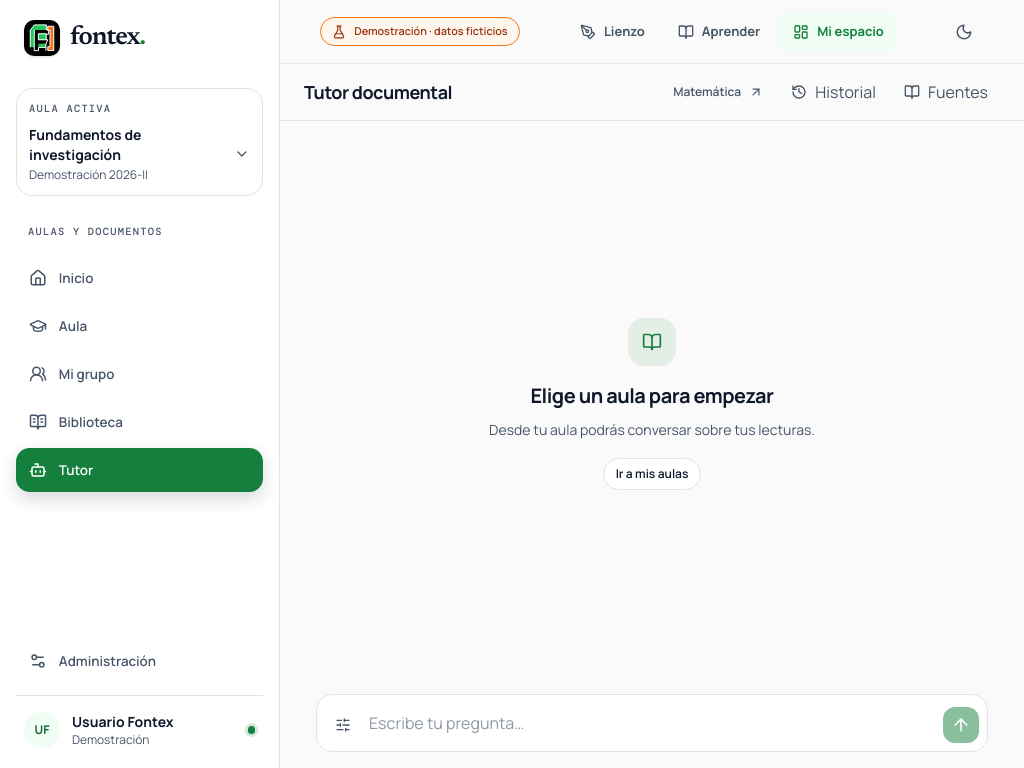
it: Fontex shell › abre las opciones y las fuentes del tutor solo al pedirlas
Expected: the heading "Tutor documental" is shown, [304, 78, 452, 106]
Expected: the heading "Elige un aula para empezar" is shown, [530, 382, 774, 410]
Click the button "Fuentes": (946, 92) [892, 76, 1000, 108]
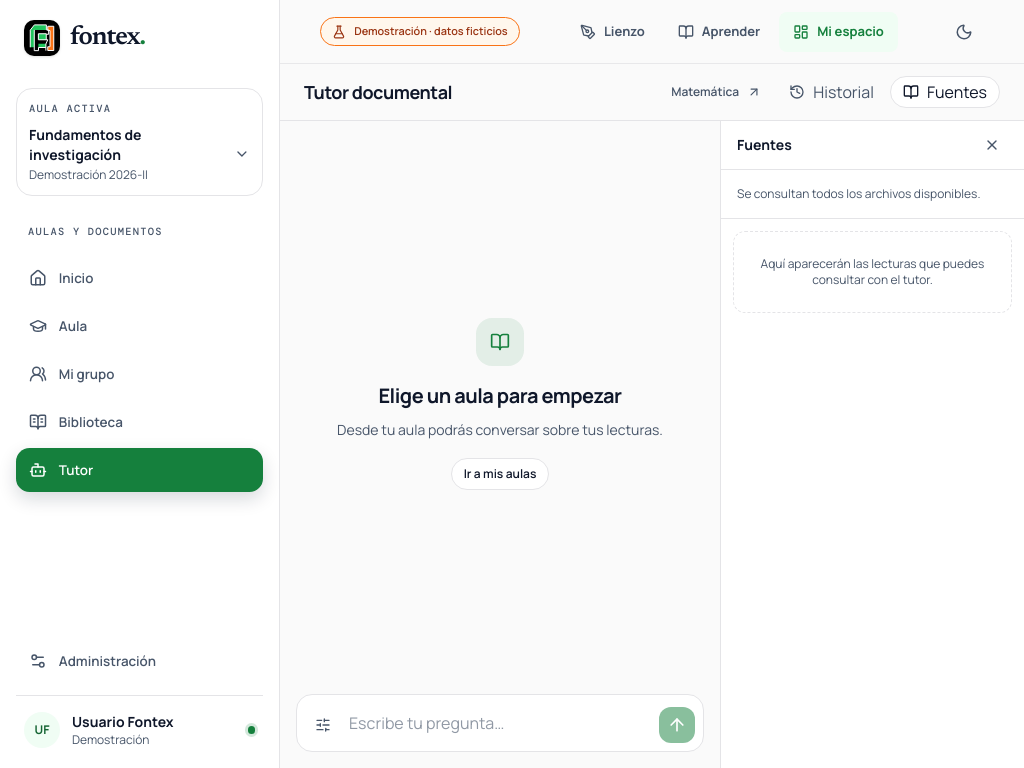
Expected: the element "Fuentes" is shown, [720, 121, 1023, 767]
Click the button named "Cerrar panel": (992, 145) [976, 129, 1008, 161]
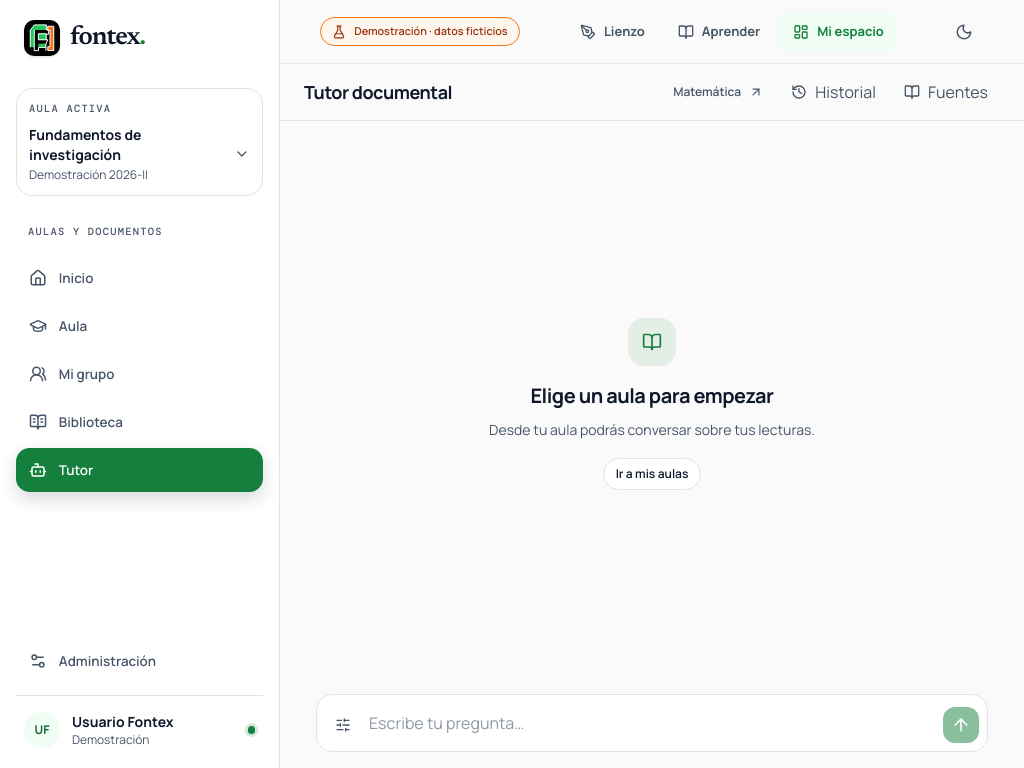
Click the heading named "Opciones de tutoría": (343, 725) [335, 717, 351, 733]
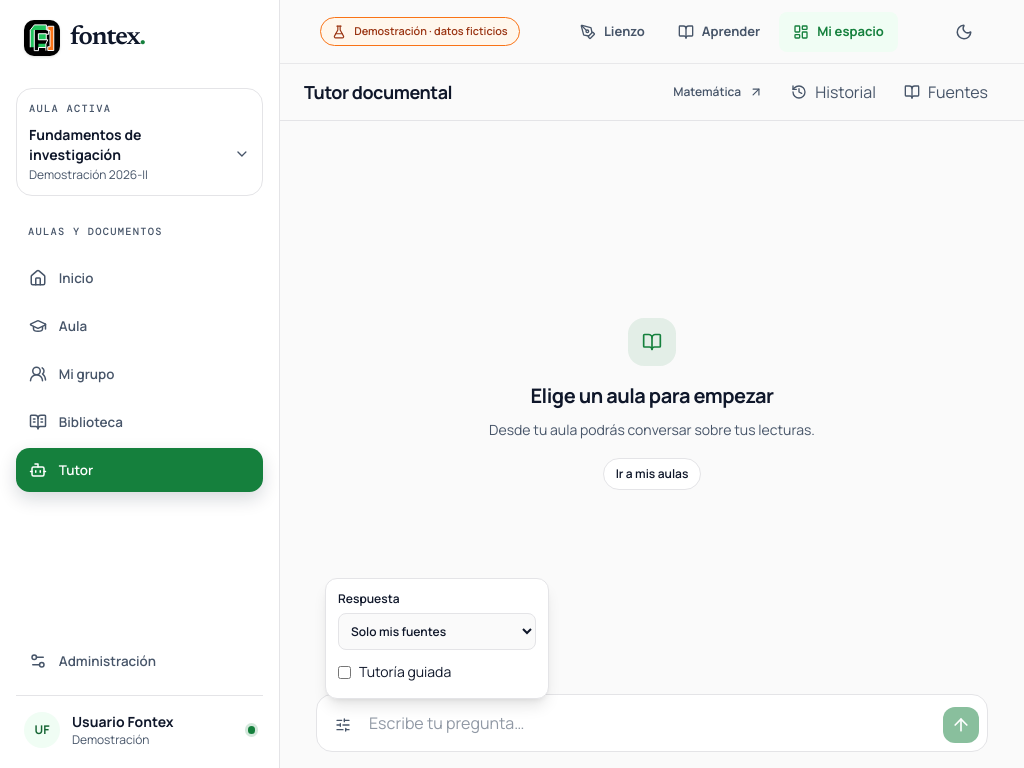
Expected: the dropdown labelled "Respuesta" is shown, [338, 613, 536, 650]
Expected: the checkbox labelled "Tutoría guiada" is shown, [338, 666, 351, 678]
